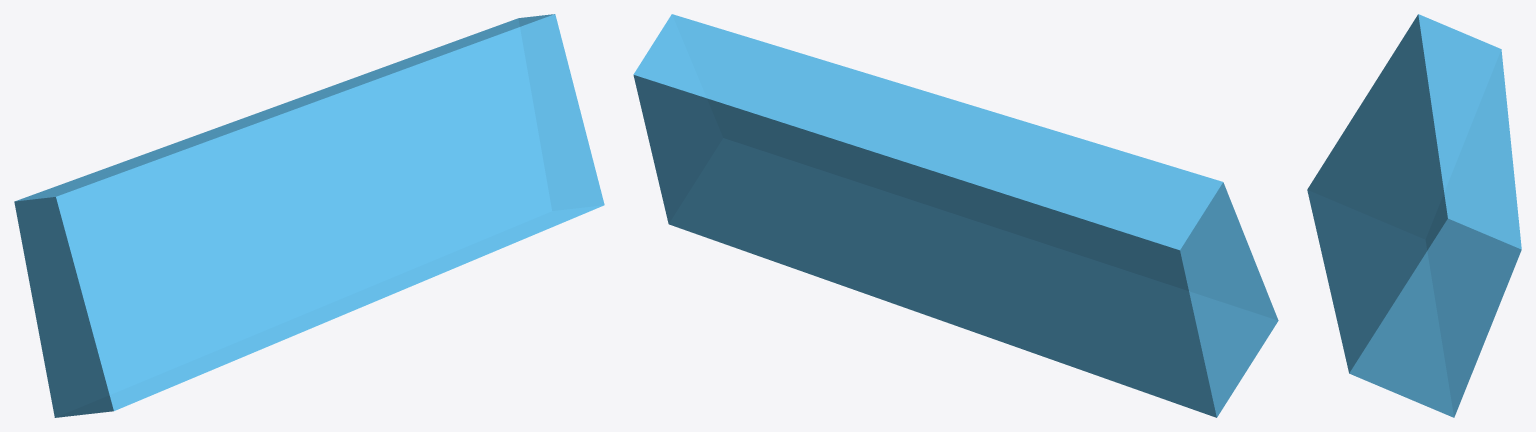
Rendered from Event_420094457_HErechit_87.fbx.
3 renders of one model, left to right at view 1: azimuth 30°, elevation 25°; view 2: azimuth 150°, elevation 25°; view 3: azimuth 270°, elevation 25°, orthographic. The views are drawn at different scales.
Visible parts, largest first — view 1: Model; view 2: Model; view 3: Model.
Part boxes in pixels (box(x1,y1,x2,y2)): Model: box(14, 14, 604, 417); Model: box(633, 14, 1278, 417); Model: box(1307, 14, 1521, 417).
Bounding box in the file's own units: 1.4 × 0.7072 × 0.5077.
